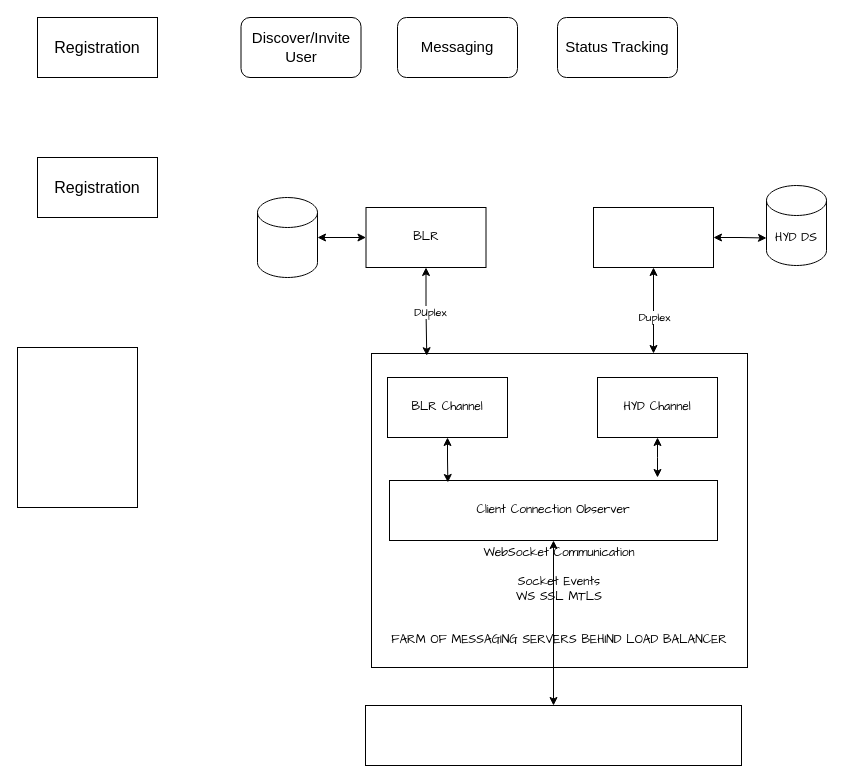
The diagram is 844 pixels wide and 783 high, and some of its shapes have lost their labels. Each missing label, with the centre of its shape:
"BLR DS" belongs at (x=287, y=237).
"HYD" belongs at (x=653, y=237).
"Message Store MID DEL_STAT READ STAT SNDR_ID RCVR_ID" belongs at (x=553, y=735).
"OpenId profile to register AWS Cognito" belongs at (x=77, y=427).
